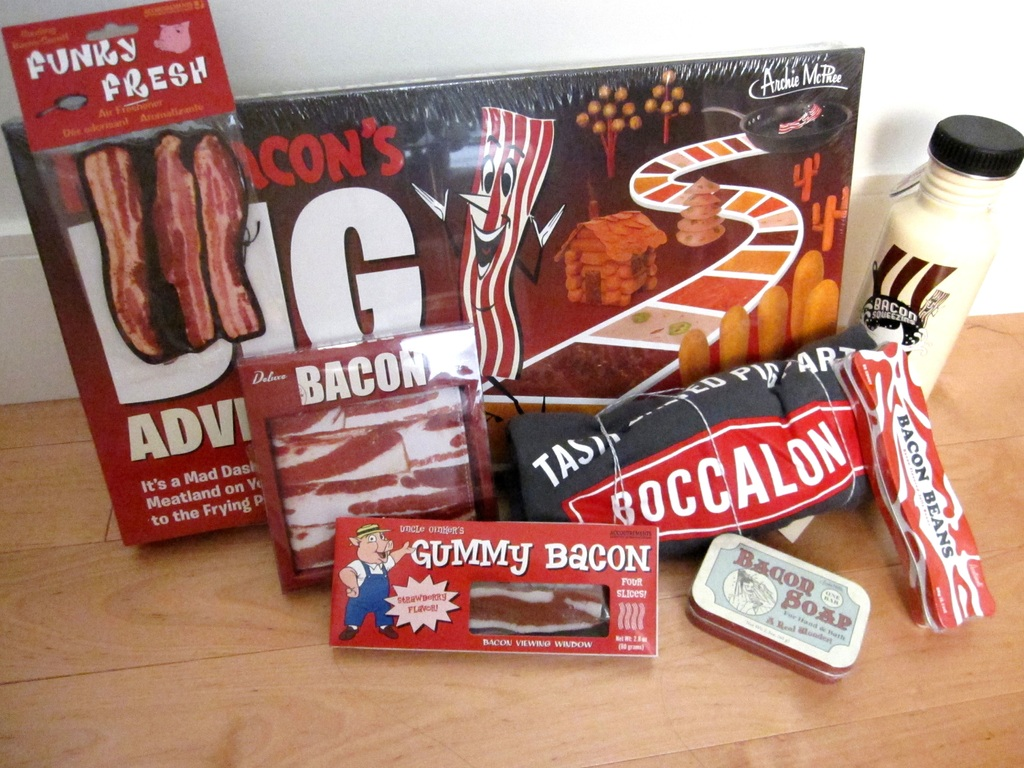can: (846, 115, 1024, 405)
